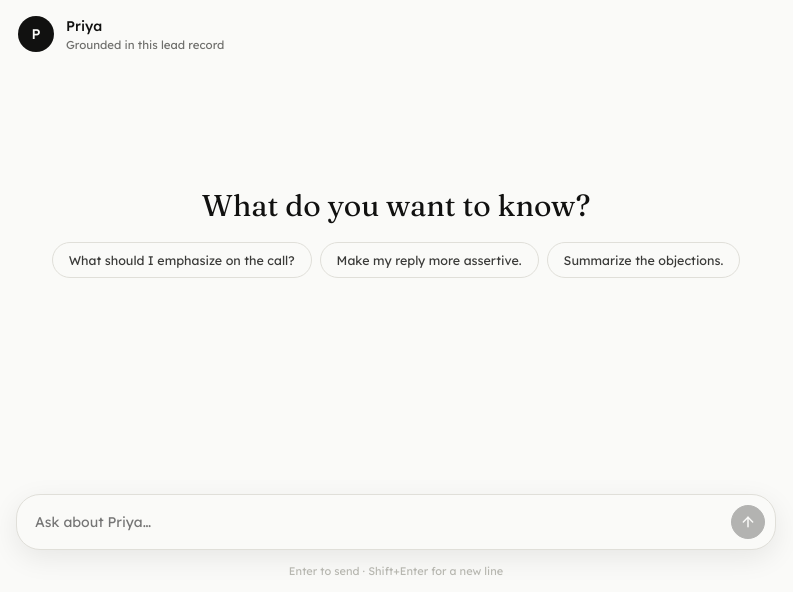
Test: failed send keeps the draft and shows detail with retry
The width and height of the screenshot is (793, 592).
Type "Hello?" into the text box named "message" at (379, 522), box [35,506,723,539]
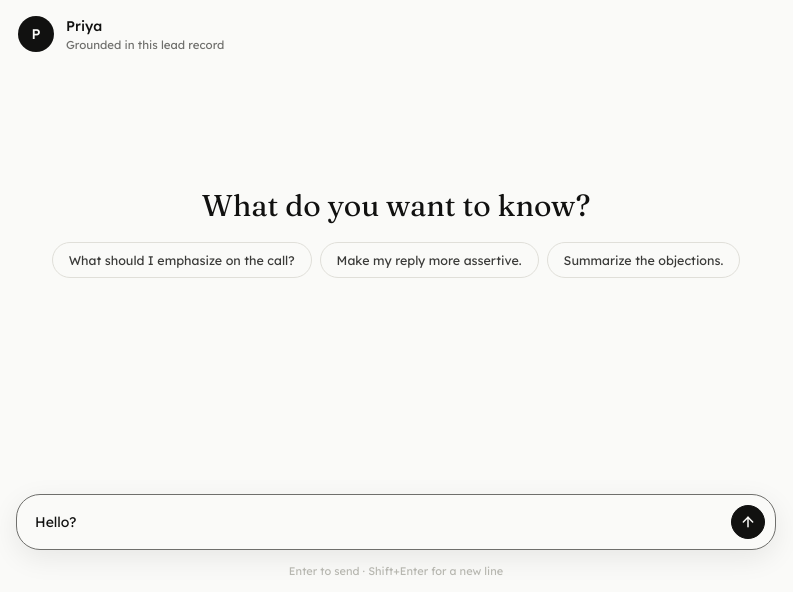
Click the button named "send" at (748, 522), box [731,505,765,539]
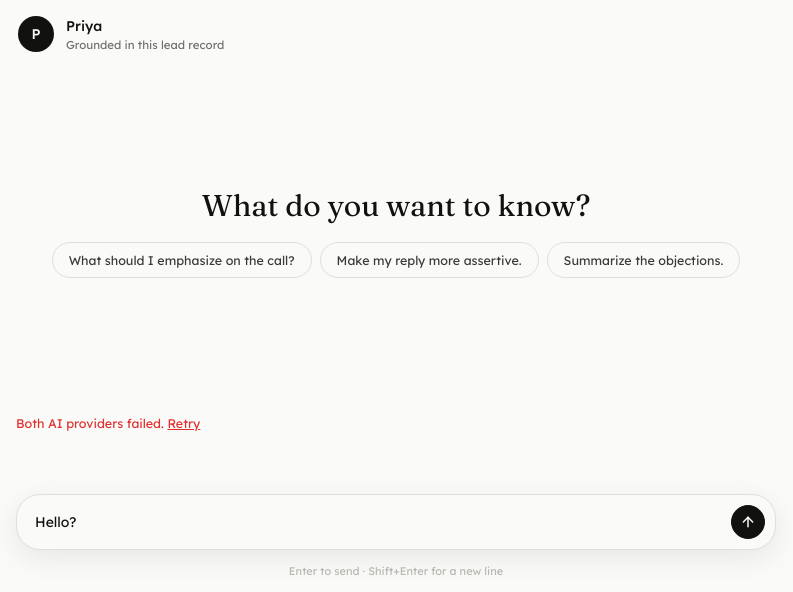
Expected: the text "Both AI providers failed. Retry" is shown, [16,415,200,431]
Expected: the button "Retry" is shown, [167,415,200,431]
